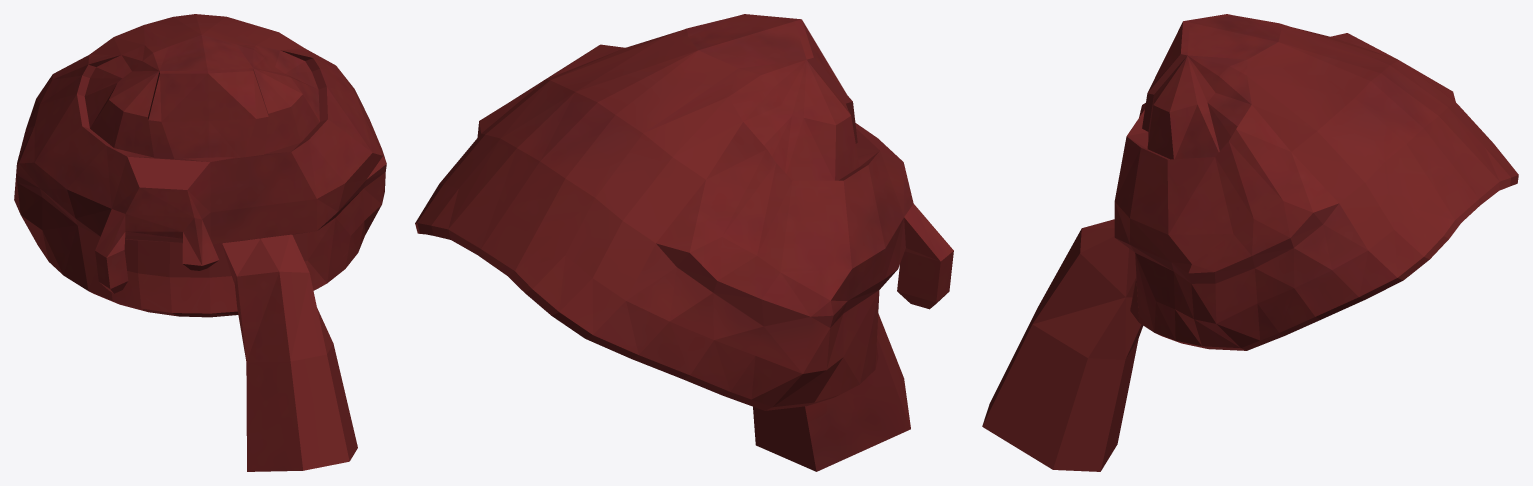
File: PIRATE BANDANA.fbx
The picture shows the model from 3 angles, left to right: view 1: azimuth 30°, elevation 25°; view 2: azimuth 150°, elevation 25°; view 3: azimuth 270°, elevation 25°; orthographic projection. The views are drawn at different scales.
Parts seen in each view (by area): view 1: PIRATE_BANDANA; view 2: PIRATE_BANDANA; view 3: PIRATE_BANDANA.
Boxes of the visible parts, bbox=[...] form: PIRATE_BANDANA: bbox=[14, 14, 386, 471]; PIRATE_BANDANA: bbox=[415, 14, 953, 471]; PIRATE_BANDANA: bbox=[982, 14, 1518, 471].
Size of the model in its own units: 28.06 by 31.61 by 37.2.
